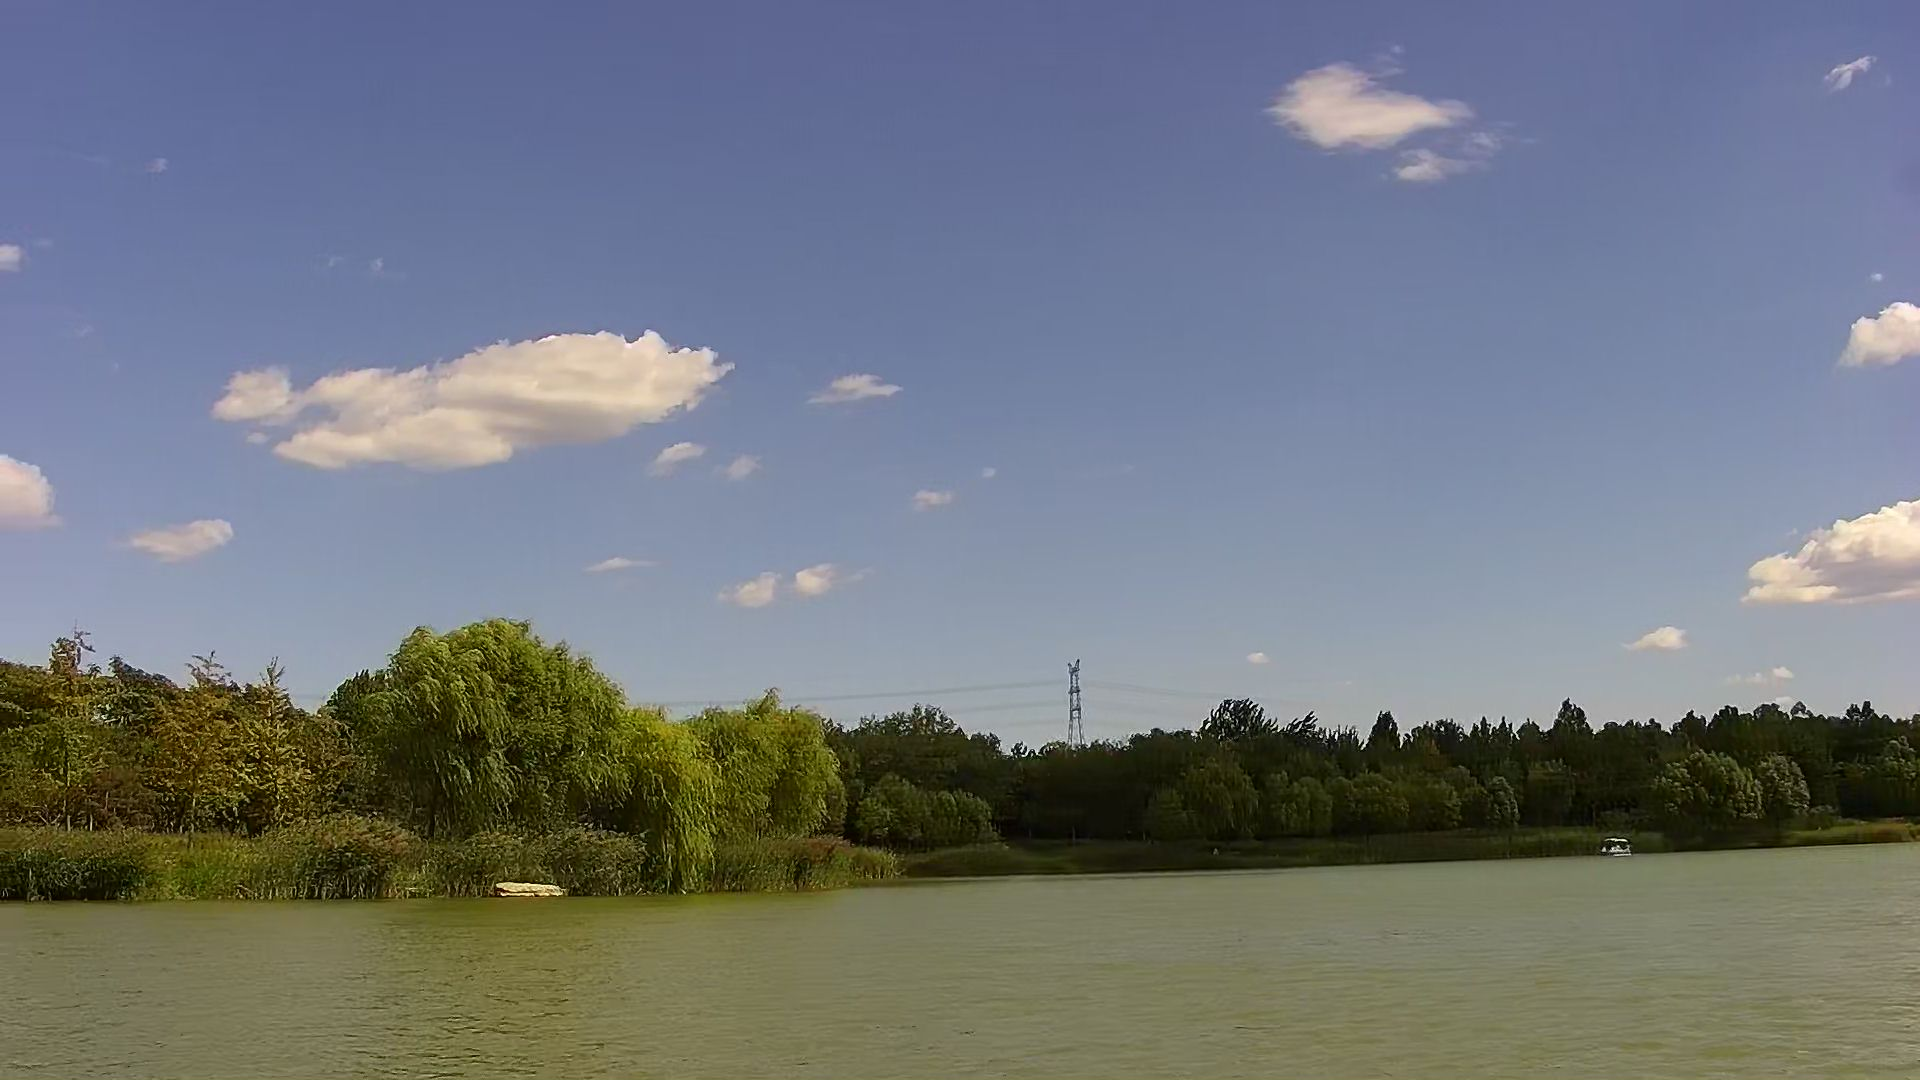boat: (1600, 840, 1634, 860)
